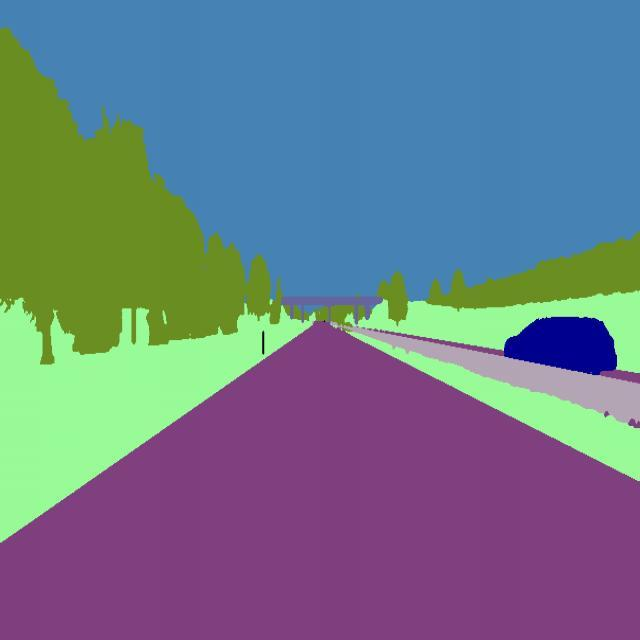safe: (493, 308, 619, 389)
